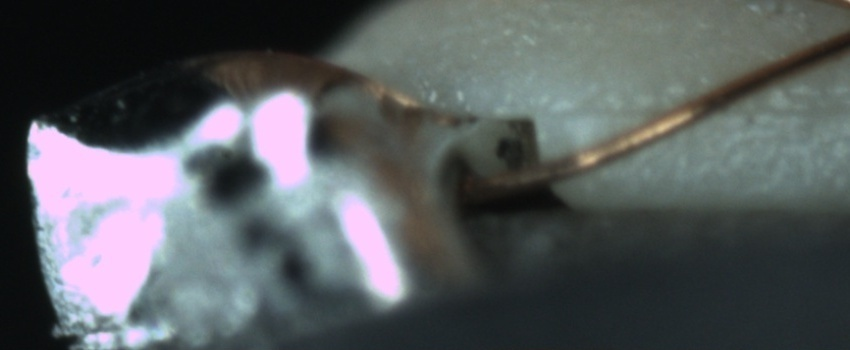DL: (564, 79, 850, 141)
